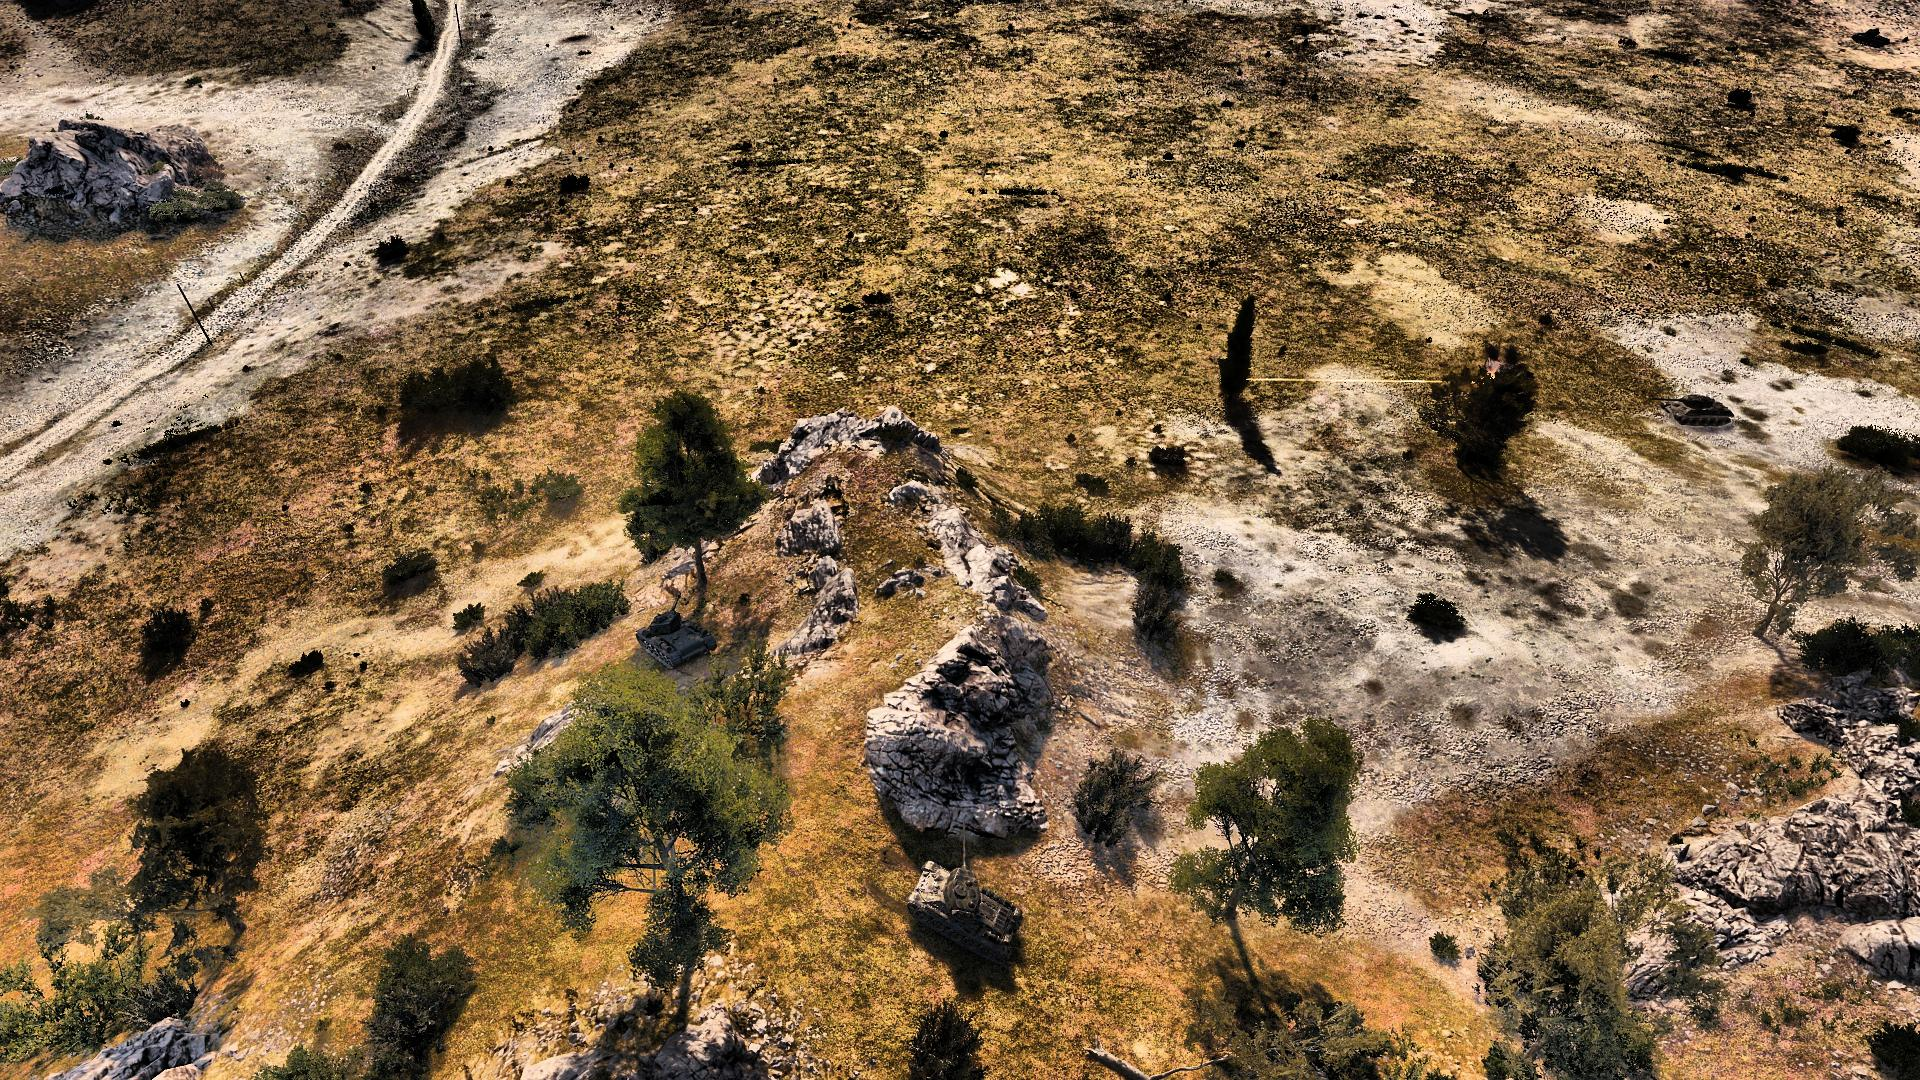military-vehicle: (907, 822, 1030, 956), (630, 592, 716, 670)
